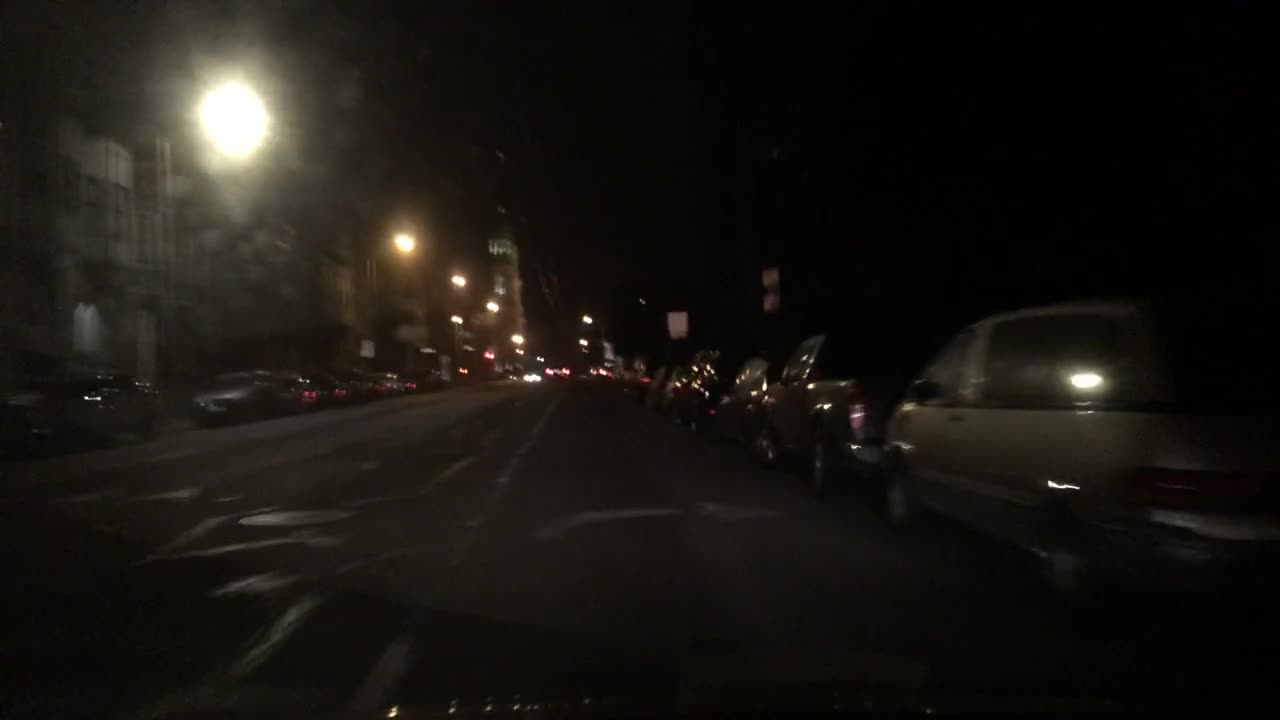car: (870, 290, 1279, 593), (748, 327, 900, 501), (0, 364, 113, 450), (701, 354, 783, 437), (680, 344, 755, 431), (186, 366, 281, 425), (97, 367, 165, 431), (657, 360, 694, 419), (277, 371, 316, 410), (611, 349, 646, 390), (640, 363, 672, 405), (370, 369, 414, 394), (338, 367, 372, 399), (311, 371, 345, 403), (586, 358, 613, 380), (544, 364, 569, 377), (520, 369, 540, 384)
traffic sign: (666, 311, 688, 339), (762, 287, 779, 310), (761, 270, 779, 289)
